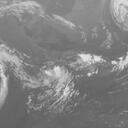cyclone: (38, 52, 97, 112)
